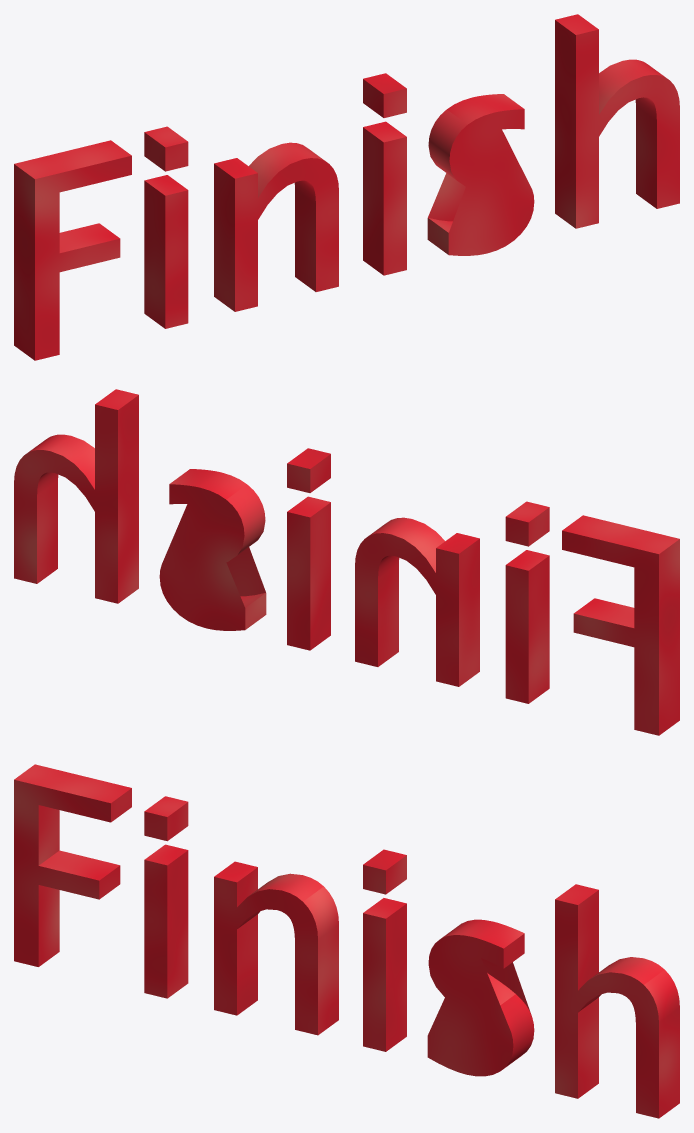
File: finish_sign_001.fbx
The picture shows the model from 3 angles, top to bottom: view 1: azimuth 30°, elevation 25°; view 2: azimuth 150°, elevation 25°; view 3: azimuth 330°, elevation 25°; orthographic projection.
Visible parts, largest first — view 1: typeMesh1; view 2: typeMesh1; view 3: typeMesh1.
Boxes of the visible parts, left/top/right/bottom form: typeMesh1: left=14, top=14, right=679, bottom=360; typeMesh1: left=14, top=389, right=679, bottom=735; typeMesh1: left=14, top=764, right=679, bottom=1118.
Bounding box in the file's own units: 44.41 × 12.95 × 2.5.
Materials: 1 (1 with a texture image).
